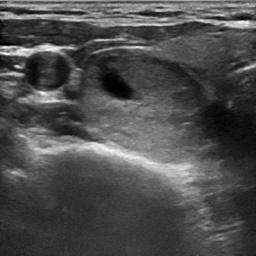mass: (89, 54, 207, 161)
